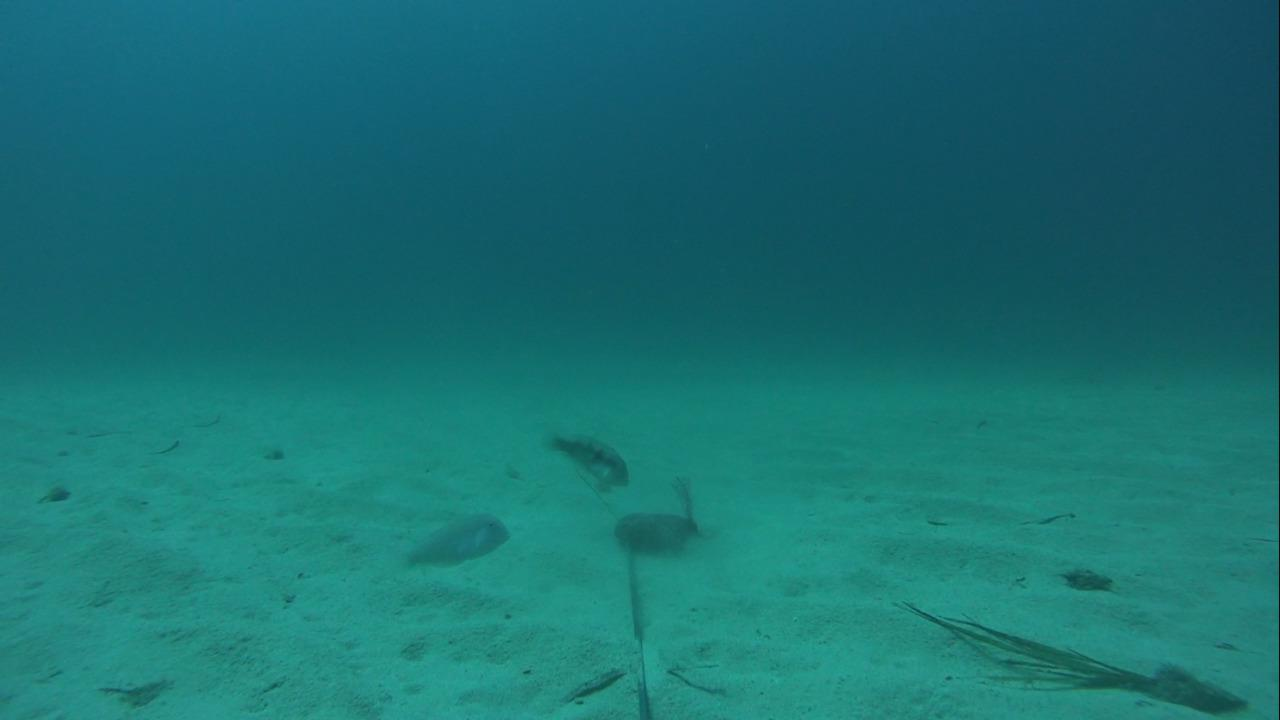raor: (398, 510, 513, 575), (539, 428, 634, 497)
